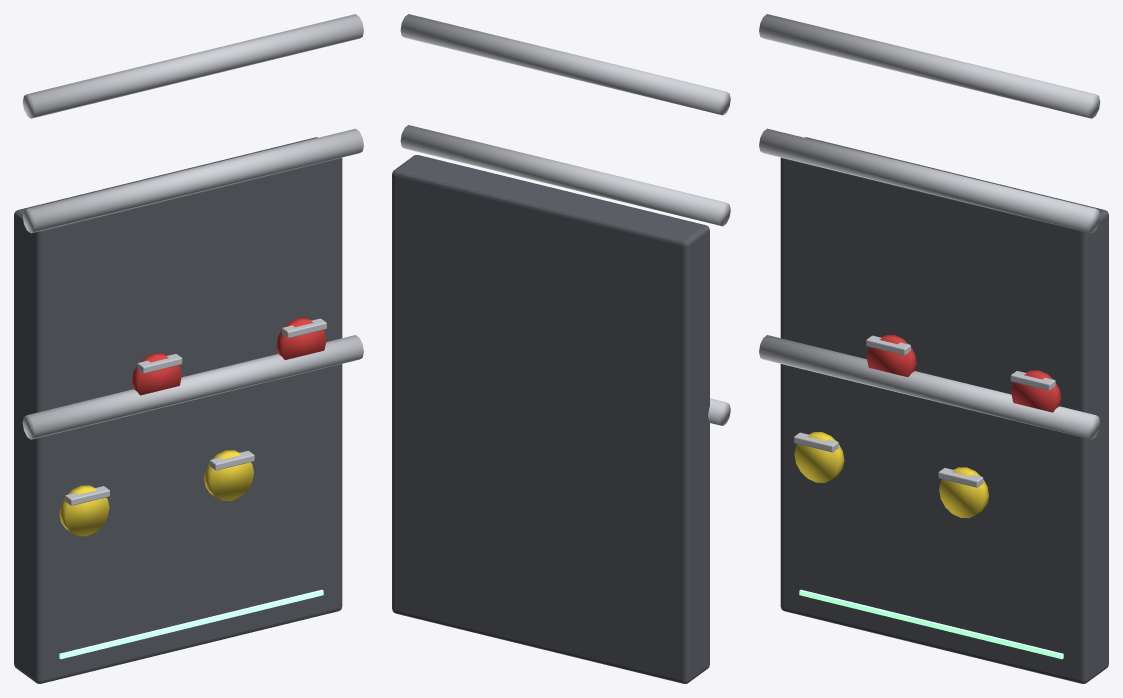
Rendered from engineering_station_valve_wall.glb.
3 renders of one model, left to right at view 1: azimuth 30°, elevation 25°; view 2: azimuth 150°, elevation 25°; view 3: azimuth 330°, elevation 25°, orthographic. The views are drawn at different scales.
Parts seen in each view (by area): view 1: GD_engineering_station_valve_wall__m0, GD_engineering_station_valve_wall__m2, GD_engineering_station_valve_wall__m1, GD_engineering_station_valve_wall__m4, GD_engineering_station_valve_wall__m3; view 2: GD_engineering_station_valve_wall__m0, GD_engineering_station_valve_wall__m2; view 3: GD_engineering_station_valve_wall__m0, GD_engineering_station_valve_wall__m2, GD_engineering_station_valve_wall__m1, GD_engineering_station_valve_wall__m4, GD_engineering_station_valve_wall__m3.
Part boxes in pixels (<box>): GD_engineering_station_valve_wall__m0: <box>14,137,342,683</box>; GD_engineering_station_valve_wall__m2: <box>22,14,363,505</box>; GD_engineering_station_valve_wall__m1: <box>59,450,253,536</box>; GD_engineering_station_valve_wall__m4: <box>131,317,326,395</box>; GD_engineering_station_valve_wall__m3: <box>59,589,323,659</box>; GD_engineering_station_valve_wall__m0: <box>392,155,709,683</box>; GD_engineering_station_valve_wall__m2: <box>400,14,730,425</box>; GD_engineering_station_valve_wall__m0: <box>780,137,1108,683</box>; GD_engineering_station_valve_wall__m2: <box>759,14,1100,487</box>; GD_engineering_station_valve_wall__m1: <box>794,432,988,518</box>; GD_engineering_station_valve_wall__m4: <box>866,335,1061,412</box>; GD_engineering_station_valve_wall__m3: <box>799,589,1063,659</box>.
Size of the model in its own units: 1.5 by 2.6 by 0.275.
